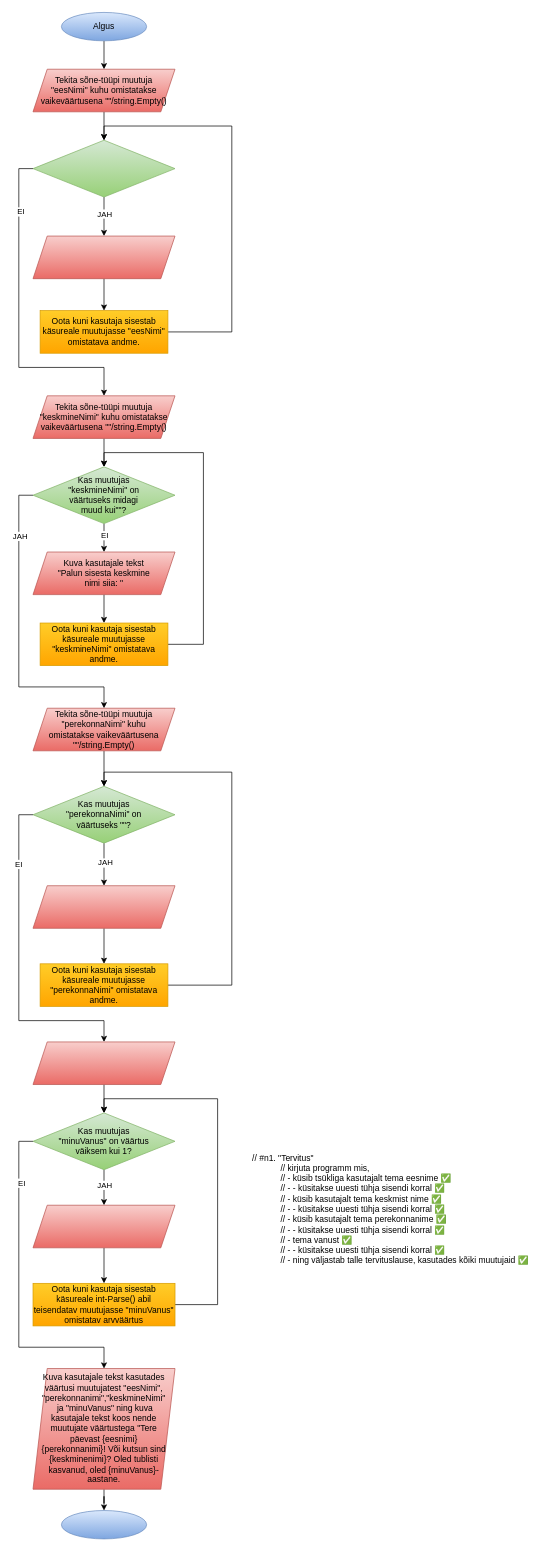
The diagram is 547 pixels wide and 1551 high, and some of its shapes have lost their labels. The centre of each missing label's shape, as x and y in pixels:
Kas muutujas "eesNimi" on väärtuseks ""?: (x=103, y=168)
Kuva kasutajale tekst "Palun sisesta ka oma perekonnanimi siia: ": (x=103, y=906)
Kuva kasutajale tekst "Palun sisesta kõige lõpuks ka oma vanus: ": (x=103, y=1226)
Kuva kasutajale tekst "Palun sisesta oma nimi siia: ": (x=103, y=257)
Lõpp: (x=104, y=1524)
Tekita täisarvu-tüüpi muutuja "minuVanus" kuhu omistatakse vaikeväärtusena arv 0: (x=103, y=1063)
